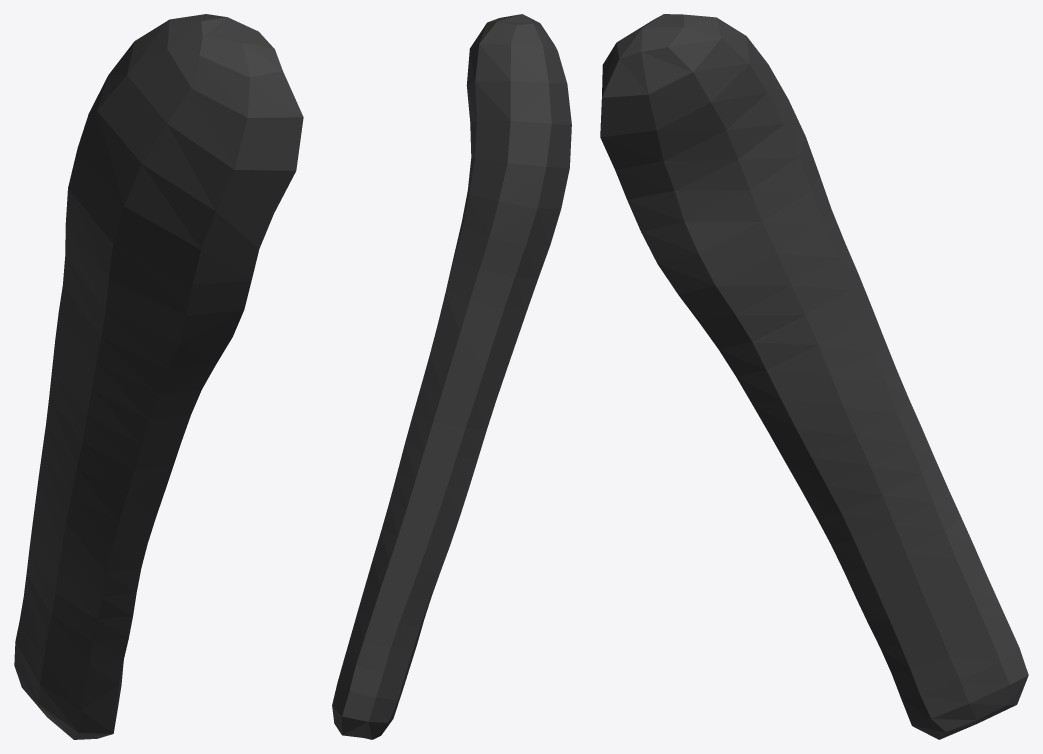
Rendered from Medial_pat_lig.glb.
3 renders of one model, left to right at view 1: azimuth 30°, elevation 25°; view 2: azimuth 150°, elevation 25°; view 3: azimuth 270°, elevation 25°, orthographic. The views are drawn at different scales.
Parts seen in each view (by area): view 1: Medial_pat_lig; view 2: Medial_pat_lig; view 3: Medial_pat_lig.
Boxes of the visible parts, x1,y1,x2,y2 form: Medial_pat_lig: (14,14,303,739); Medial_pat_lig: (332,14,571,739); Medial_pat_lig: (600,14,1028,739).
Size of the model in its own units: 0.2877 by 1.57 by 0.8655.
Materials: 1 (1 with a texture image).
